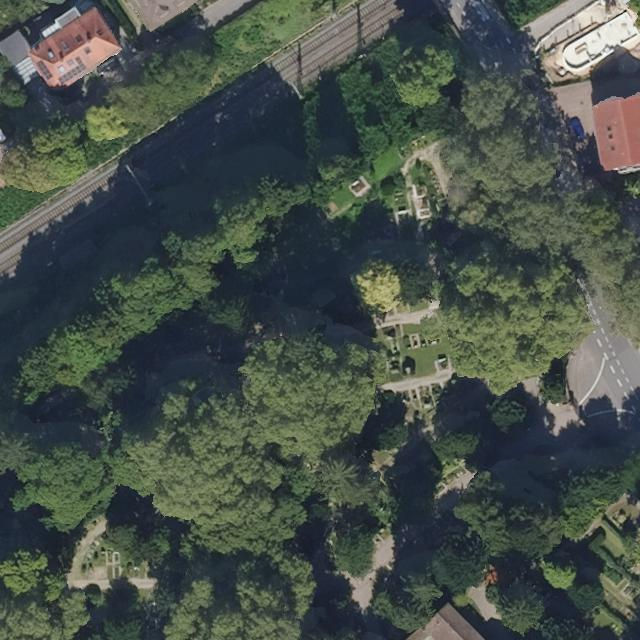PV: (54, 53, 89, 87), (33, 58, 56, 82)
